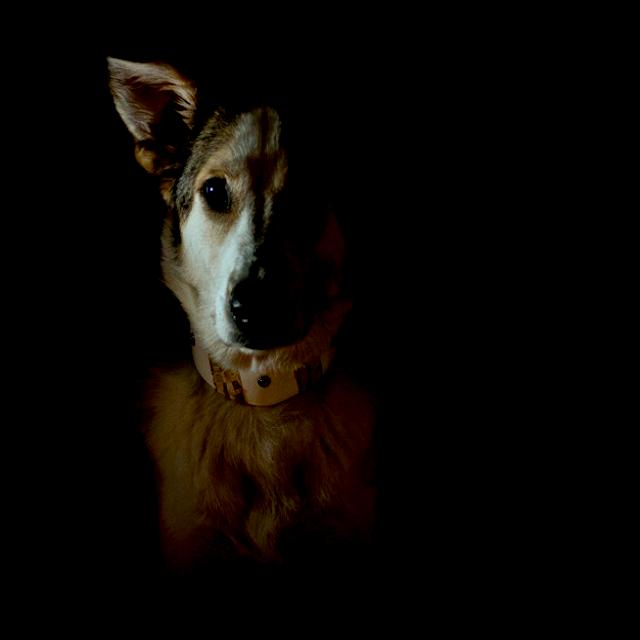Dog: (51, 2, 460, 608)
